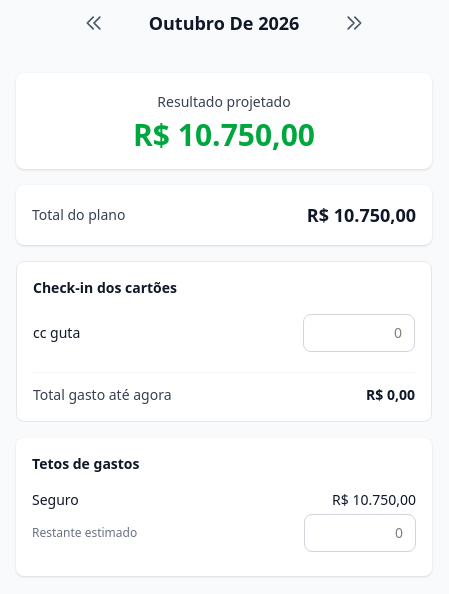
it: Card check-in › records a card total, shows Total Spent so far, and updates the projection live
When I enter the card's current total at check-in
Type "2899" into the field named "Gasto do cartão cc guta".
click(359, 333); type("2899")  # box x1=303 y1=314 x2=415 y2=352
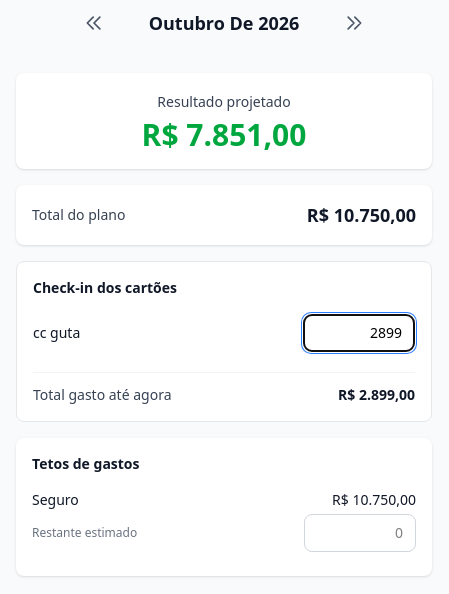
Expected: the text "Total gasto até agora" is shown, x1=33 y1=385 x2=172 y2=405
Expected: the text "R$ 2.899,00" is shown, x1=338 y1=385 x2=415 y2=405
Expected: the text "R$ 7.851,00" is shown, x1=142 y1=114 x2=306 y2=155
